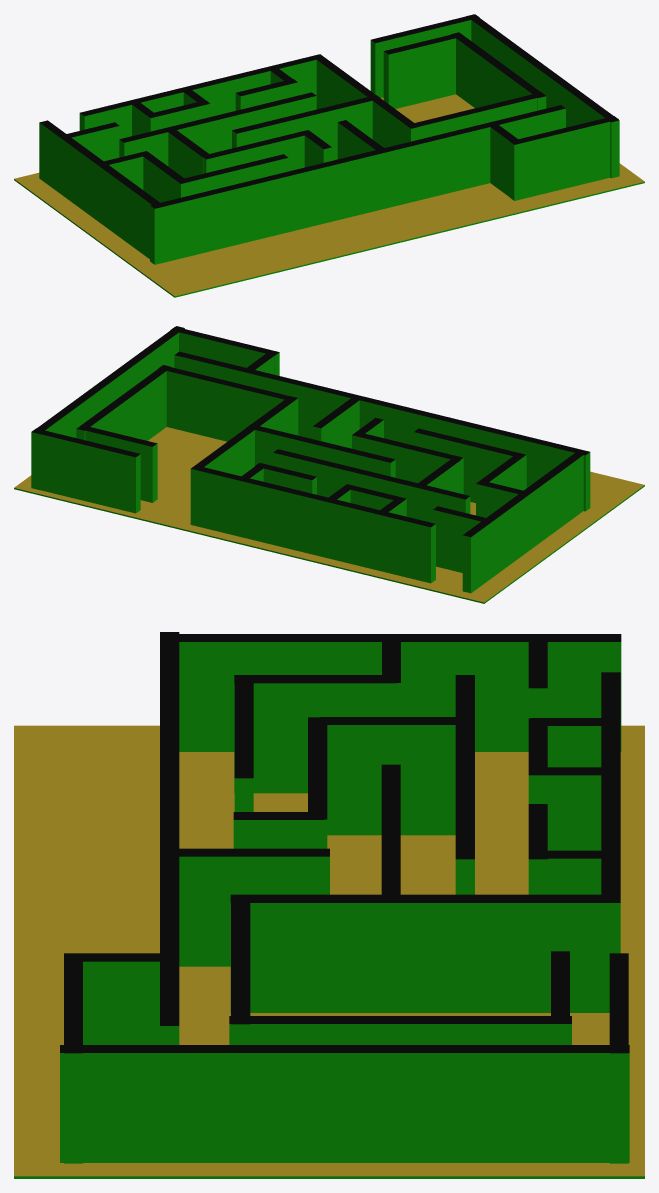
Rendered from labirinto.obj.
3 renders of one model, top to bottom at view 1: azimuth 30°, elevation 25°; view 2: azimuth 150°, elevation 25°; view 3: azimuth 270°, elevation 25°, orthographic. The views are drawn at different scales.
Parts seen in each view (by area): view 1: Plane.001; view 2: Plane.001; view 3: Plane.001.
Boxes of the visible parts, x1=… form: Plane.001: x1=14, y1=14, x2=644, y2=297; Plane.001: x1=14, y1=326, x2=644, y2=603; Plane.001: x1=14, y1=632, x2=644, y2=1178.
Size of the model in its own units: 475 by 55.46 by 281.
